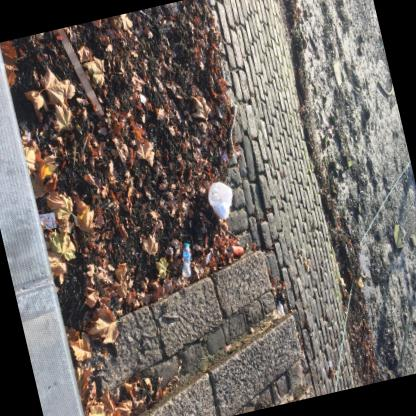Metal: (227, 245, 243, 256)
Paper: (38, 212, 56, 230)
Plastic: (208, 182, 232, 219), (181, 243, 190, 278), (18, 121, 30, 143)
